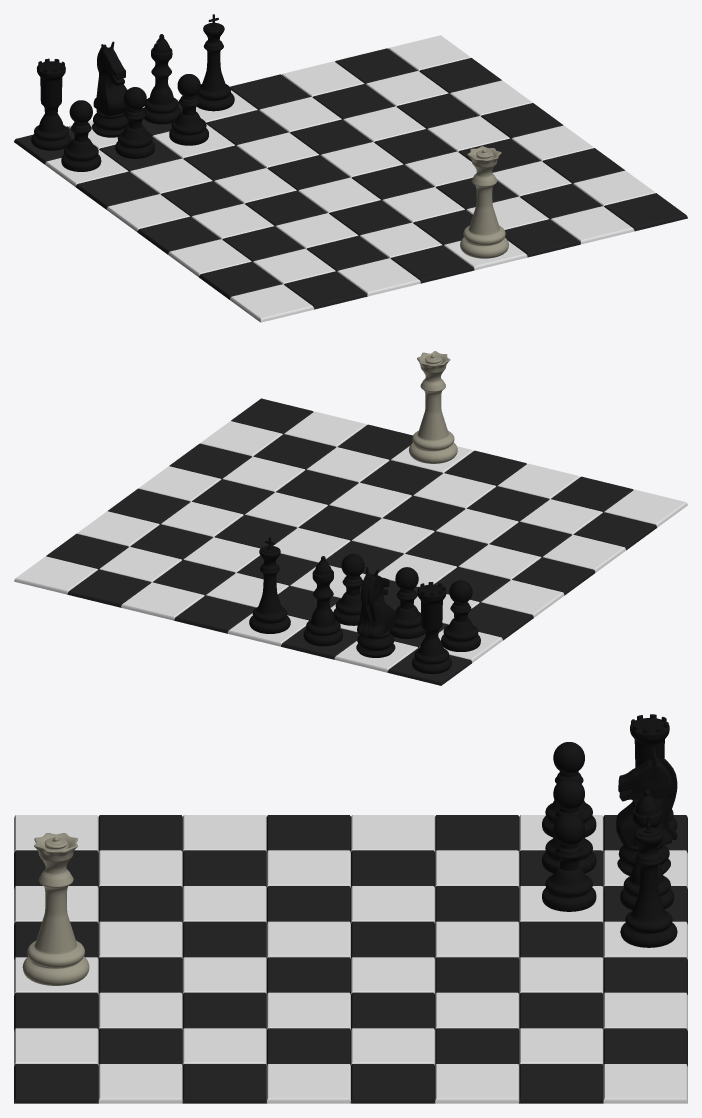
File: chess.glb
The picture shows the model from 3 angles, top to bottom: view 1: azimuth 30°, elevation 25°; view 2: azimuth 150°, elevation 25°; view 3: azimuth 270°, elevation 25°; orthographic projection. The views are drawn at different scales.
Visible parts, largest first — view 1: deck, king, 7, 6, 1, 2, 3, 5, 4; view 2: deck, king, 7, 6, 1, 2, 5, 4, 3; view 3: deck, king, 7, 1, 3, 4, 2, 5, 6.
Boxes of the visible parts, x1,y1,x2,y2 form: deck: (14,35,687,322); king: (460,146,508,258); 7: (92,41,128,137); 6: (31,58,71,150); 1: (196,14,234,111); 2: (142,34,181,124); 3: (169,74,208,145); 5: (61,100,101,171); 4: (115,87,154,158); deck: (14,398,687,685); king: (409,351,457,463); 7: (356,567,396,657); 6: (412,582,451,673); 1: (249,537,290,633); 2: (303,556,342,646); 5: (441,580,480,651); 4: (390,567,425,638); 3: (333,554,364,625); deck: (14,815,687,1103); king: (22,833,89,985); 7: (616,748,677,875); 1: (620,815,677,947); 3: (542,813,596,911); 4: (542,777,596,873); 2: (620,789,674,910); 5: (542,742,596,837); 6: (630,714,677,830).
Bounding box in the file's own units: 15.9 × 3.68 × 15.9.
